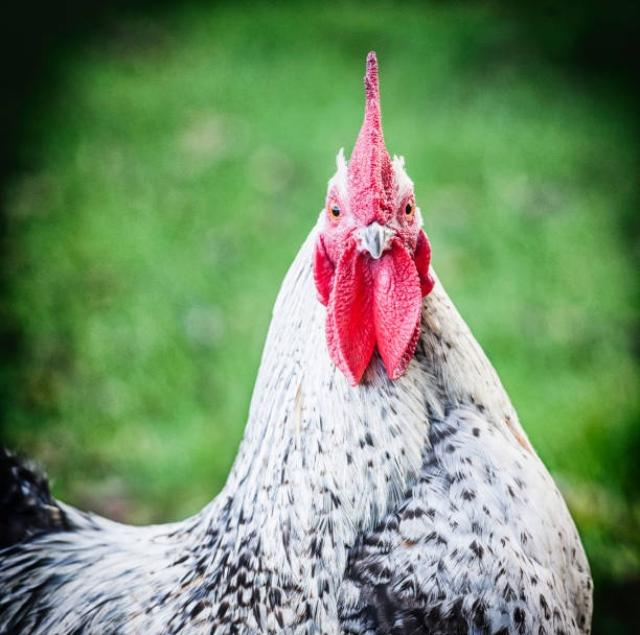Chicken: (0, 48, 592, 635)
